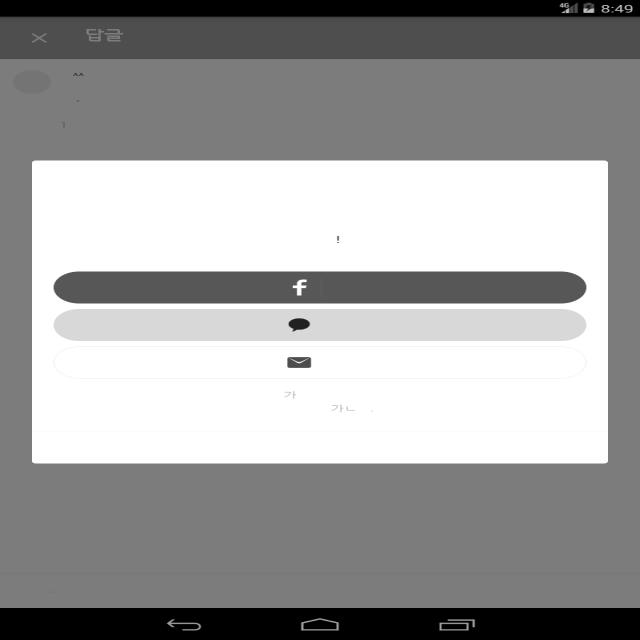Button: (48, 266, 589, 306), (48, 310, 594, 346)
ImageButton: (24, 27, 55, 48)
TextView: (74, 23, 133, 47)
